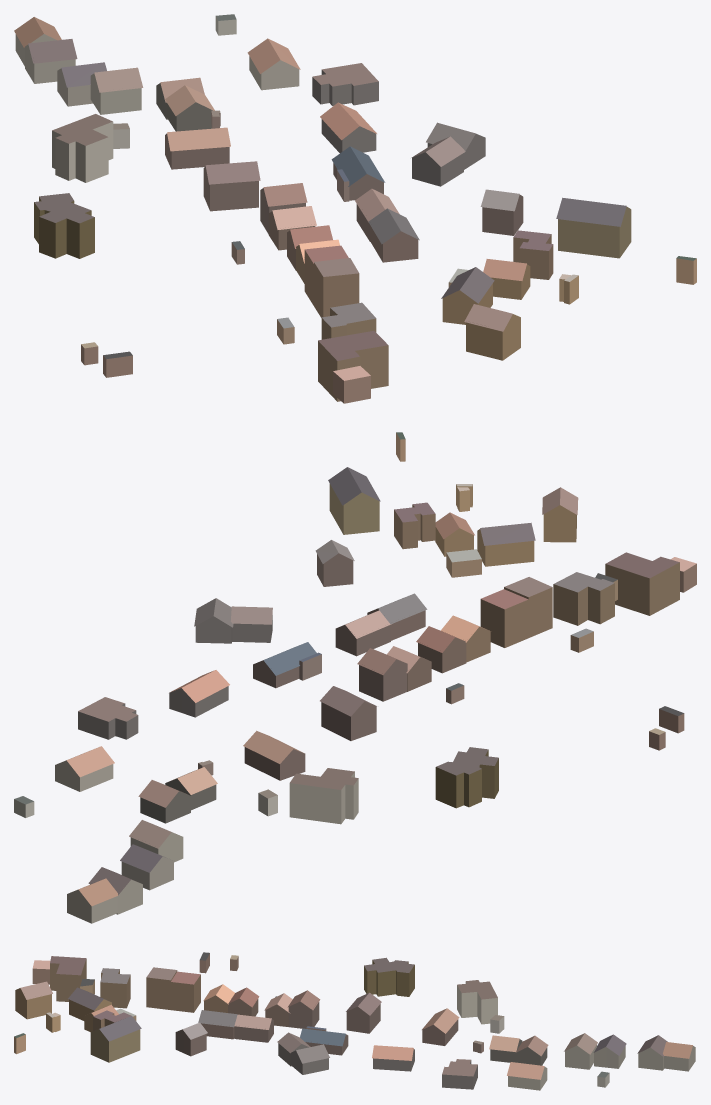
The picture shows the model from 3 angles, top to bottom: view 1: azimuth 30°, elevation 25°; view 2: azimuth 150°, elevation 25°; view 3: azimuth 270°, elevation 25°; orthographic projection. The views are drawn at different scales.
Visible parts, largest first — view 1: tuile; view 2: tuile; view 3: tuile.
Boxes of the visible parts, x1=… form: tuile: x1=14, y1=14, x2=696, y2=403; tuile: x1=14, y1=432, x2=696, y2=923; tuile: x1=14, y1=952, x2=695, y2=1090.
Bounding box in the file's own units: 132 × 36.15 × 254.
